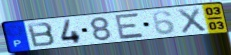4: (60, 18, 83, 45)
6: (151, 10, 177, 36)
8: (88, 16, 114, 42)
B: (26, 21, 58, 48)
E: (114, 12, 146, 41)
X: (175, 7, 208, 35)
